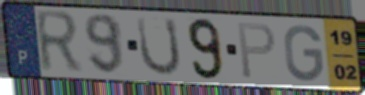9: (83, 12, 125, 78), (185, 16, 226, 82)
G: (282, 23, 326, 84)
P: (236, 21, 278, 81)
R: (33, 8, 85, 76)
U: (135, 15, 184, 78)
